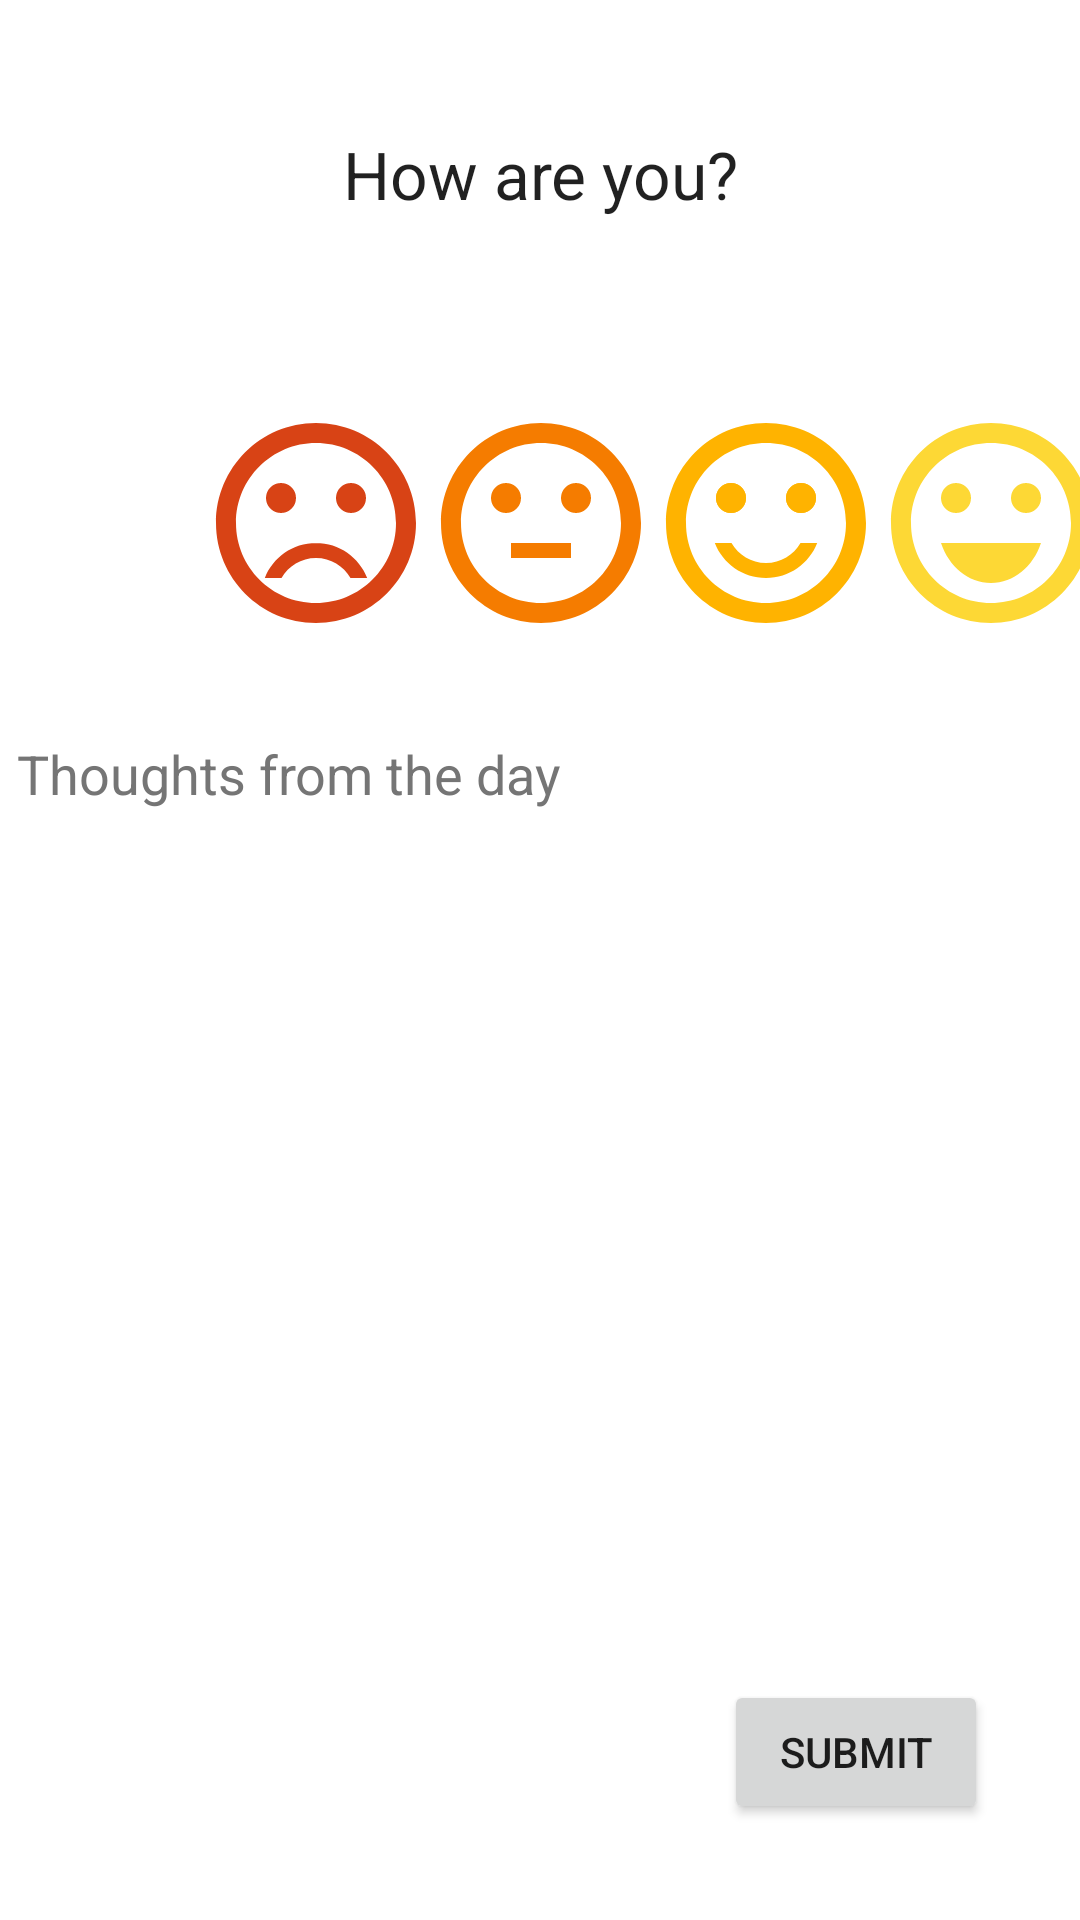

Where to tap for icons on this 1080*1920 app screen, as (x=x, y=y):
Good: (x=765, y=523)
Sad: (x=316, y=523)
